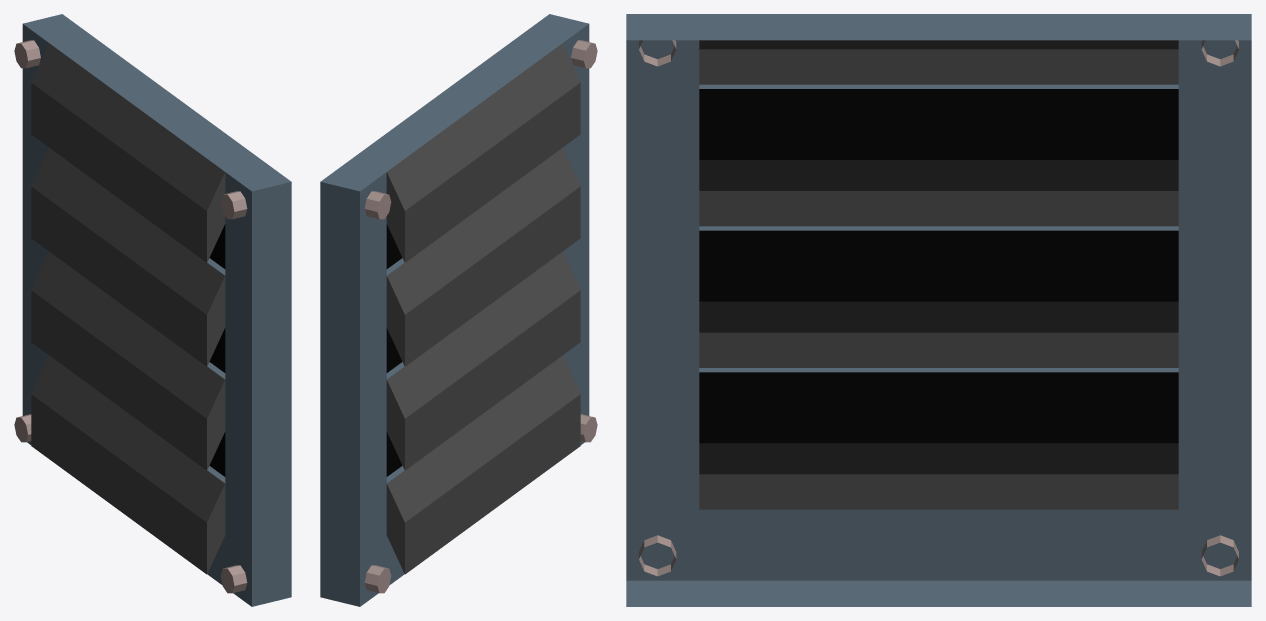
Rendered from vent.glb.
3 views of the same model, side by side, from view 1: azimuth 30°, elevation 25°; view 2: azimuth 150°, elevation 25°; view 3: azimuth 270°, elevation 25° (orthographic). The views are drawn at different scales.
Visible parts, largest first — view 1: vent_mesh; view 2: vent_mesh; view 3: vent_mesh.
Boxes of the visible parts, x1,y1,x2,y2 form: vent_mesh: (14, 14, 291, 606); vent_mesh: (320, 14, 597, 606); vent_mesh: (626, 14, 1251, 606).
Size of what is drawn, in the model's own units: 0.1749 by 1.2 by 1.2.
